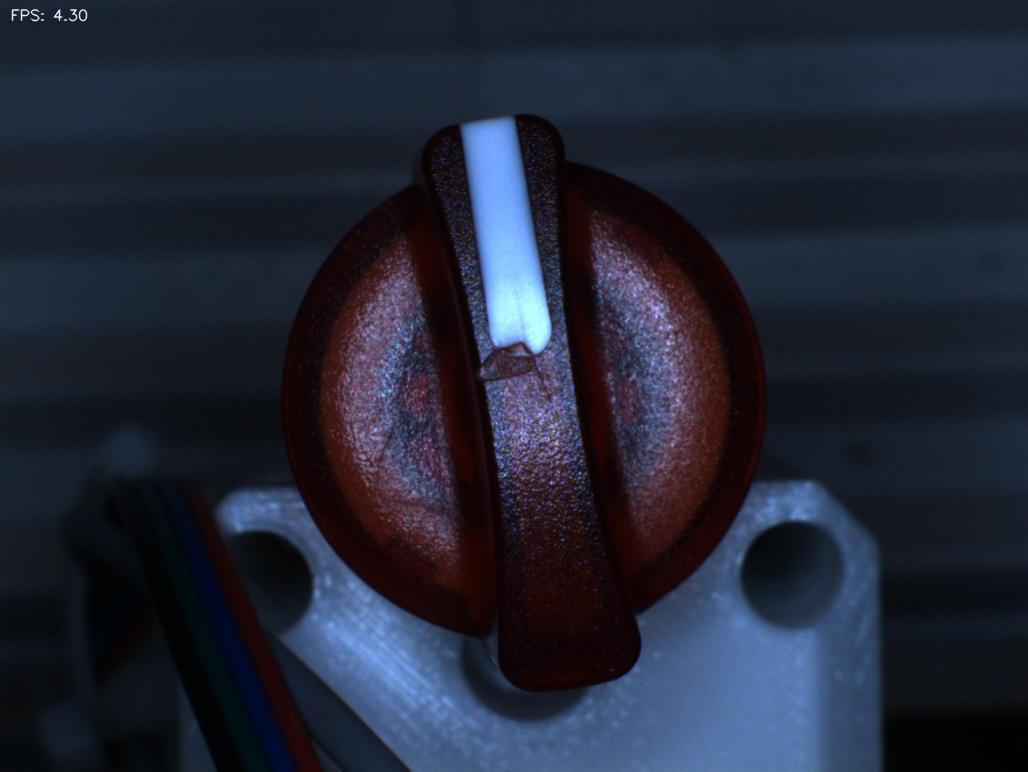Choc: (462, 316, 557, 409)
